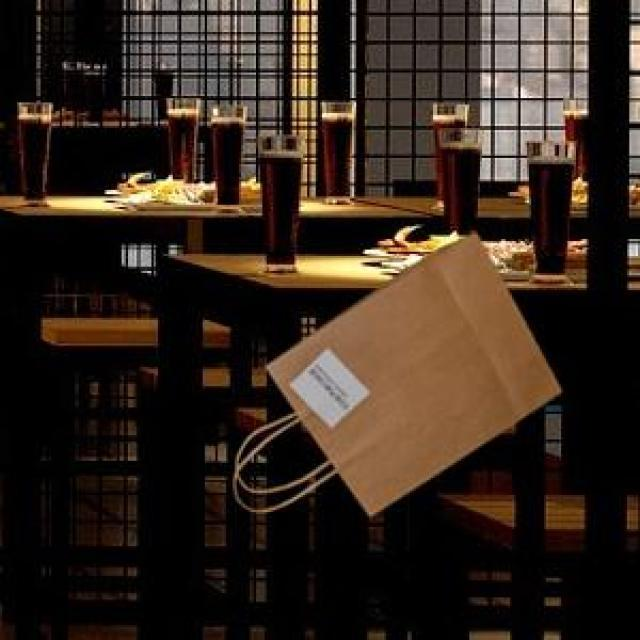paper: (248, 228, 557, 512)
